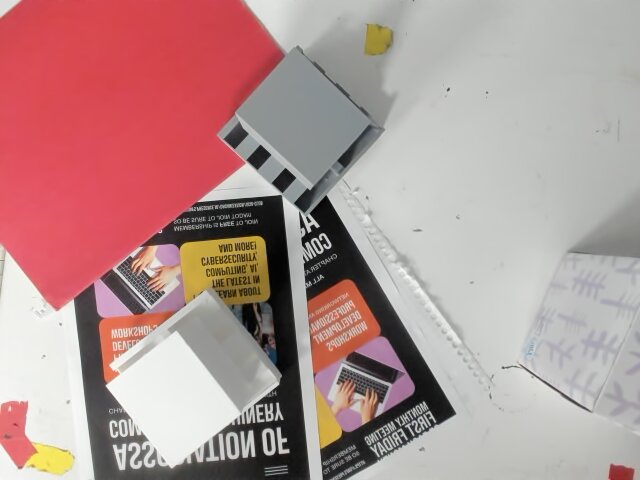grey pallet: (211, 42, 392, 215)
white pallet: (99, 285, 284, 471)
